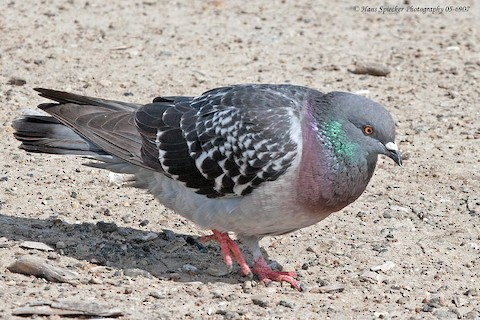pigeon: (10, 60, 406, 295)
